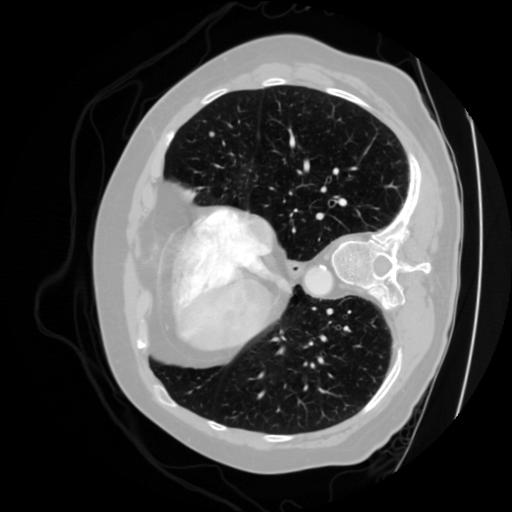nodule: (206, 127, 219, 140)
